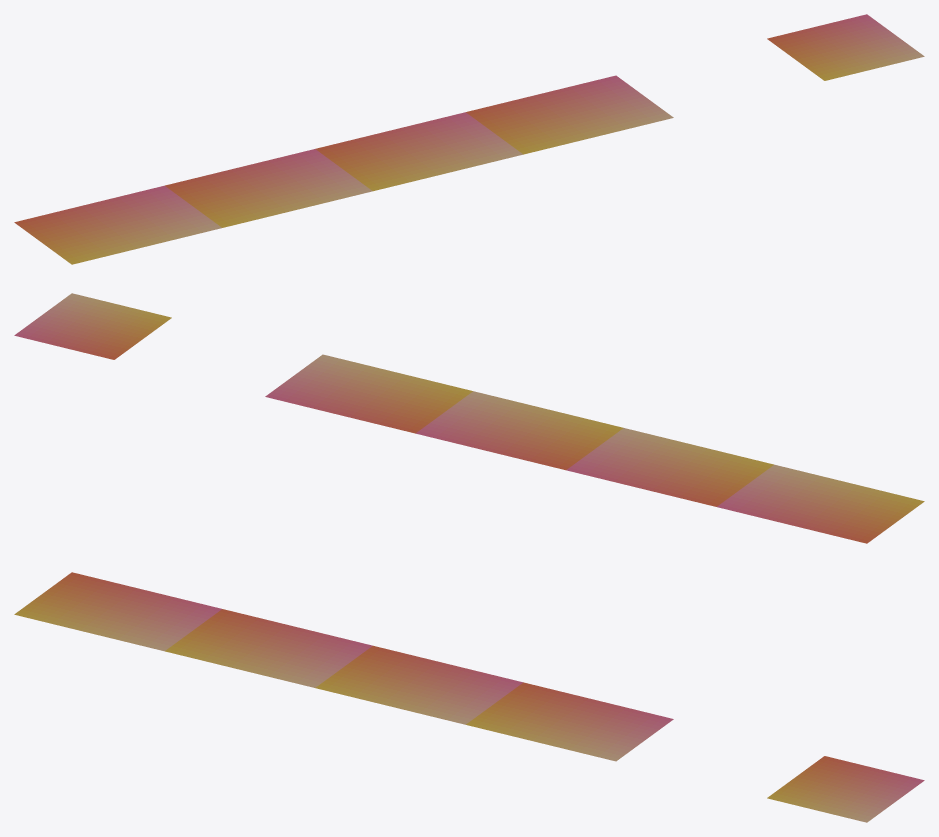
3 renders of one model, top to bottom at view 1: azimuth 30°, elevation 25°; view 2: azimuth 150°, elevation 25°; view 3: azimuth 330°, elevation 25°, orthographic.
Visible parts, largest first — view 1: mesh; view 2: mesh; view 3: mesh.
Boxes of the visible parts, x1,y1,x2,y2 form: mesh: [14, 14, 924, 264]; mesh: [14, 293, 924, 543]; mesh: [14, 572, 924, 822].
Bounding box in the file's own units: 68 × 0 × 8.
Materials: 1 (1 with a texture image).
